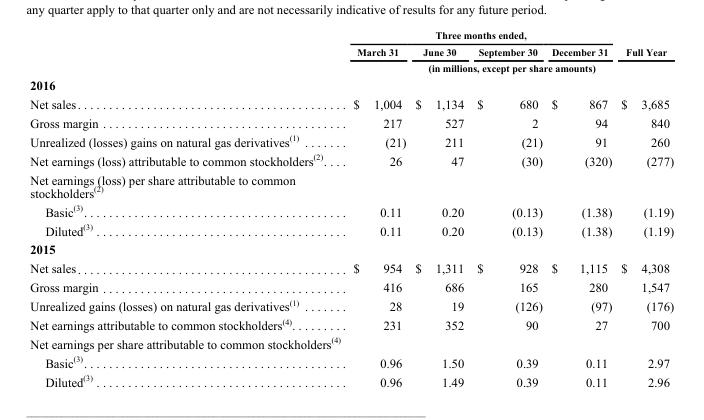table: (29, 29, 673, 388)
table column: (29, 29, 339, 388), (469, 29, 546, 388), (339, 29, 409, 388), (546, 29, 615, 388), (409, 29, 469, 388), (615, 29, 673, 388)
table column header: (29, 29, 673, 75)
table projected row header: (29, 170, 673, 201), (29, 75, 673, 94), (29, 239, 673, 258), (29, 333, 673, 352)
table row: (29, 170, 673, 201), (29, 150, 673, 170), (29, 75, 673, 94), (29, 94, 673, 113), (29, 131, 673, 150), (29, 201, 673, 220), (29, 220, 673, 239), (29, 239, 673, 258), (29, 258, 673, 277), (29, 295, 673, 314), (29, 314, 673, 333), (29, 333, 673, 352), (29, 352, 673, 371), (29, 113, 673, 131), (29, 277, 673, 295), (29, 42, 673, 59), (29, 371, 673, 388), (29, 59, 673, 75), (29, 29, 673, 42)
table spanning cell: (339, 59, 673, 75), (339, 29, 615, 42), (615, 29, 673, 59)
